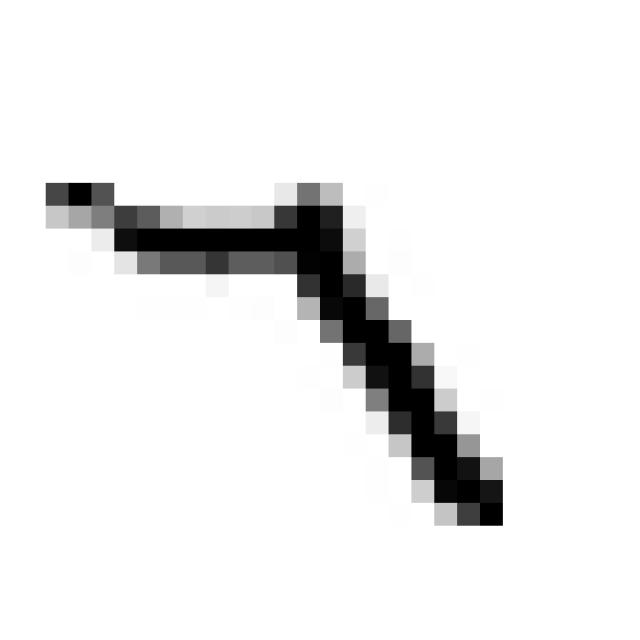6 -six-: (34, 153, 536, 550)
